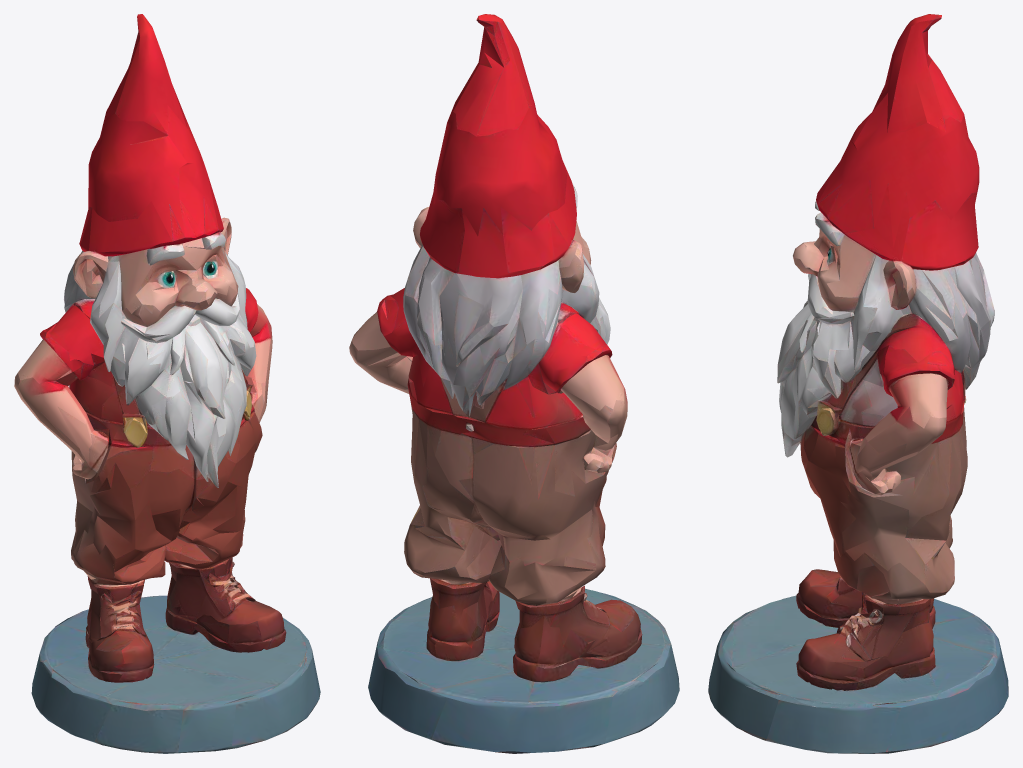
File: gnome.glb
3 renders of one model, left to right at view 1: azimuth 30°, elevation 25°; view 2: azimuth 150°, elevation 25°; view 3: azimuth 270°, elevation 25°, orthographic. The views are drawn at different scales.
Size of the model in its own units: 0.768 by 1.9 by 0.7619.
1 material, 1 textured.
